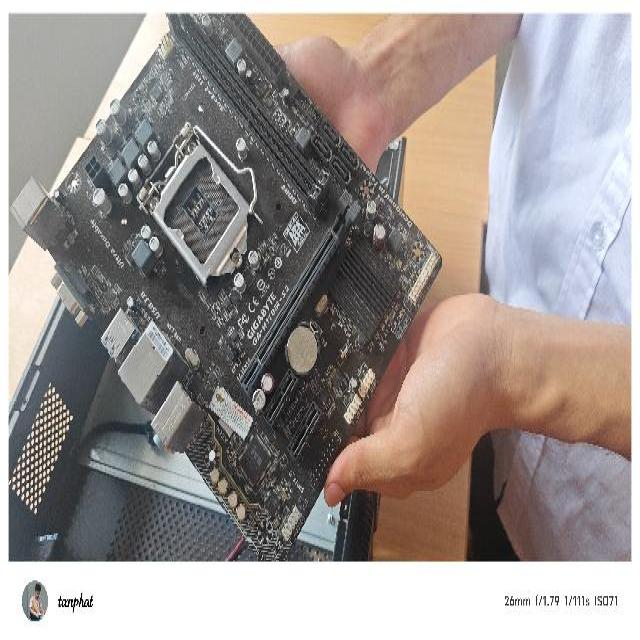Mainboard: (8, 13, 440, 560)
